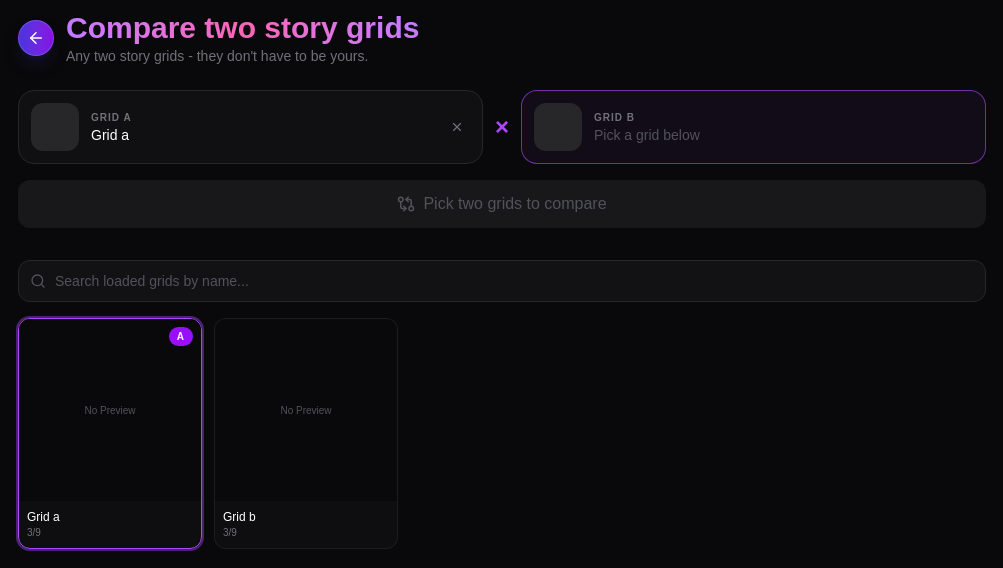
Test: StoryComparePicker › preset A focuses slot B; tapping a picked tile un-picks it
Click the text "Grid b" at (239, 517), box [223,510,256,524]
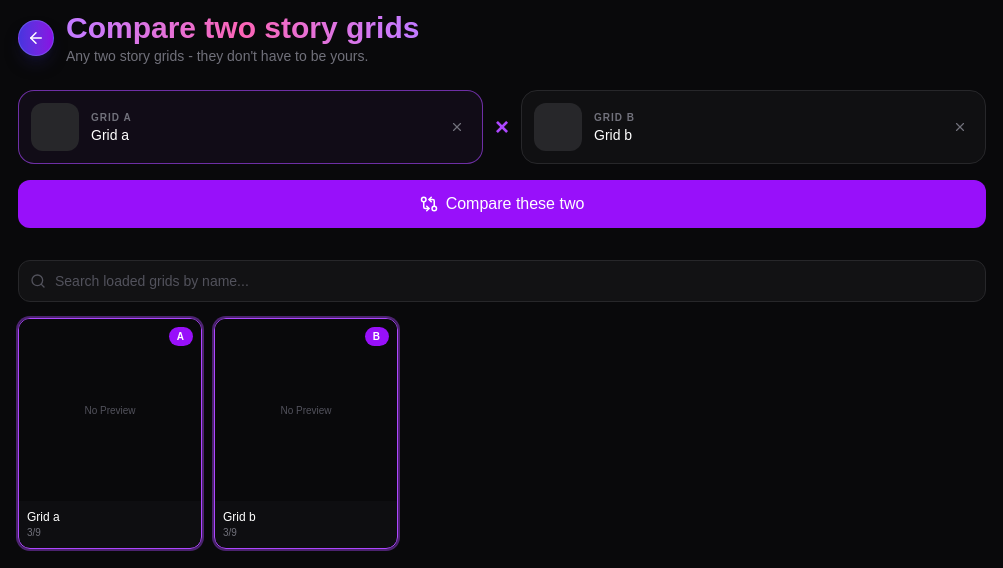
Expected: the button "Compare these two" is shown, [18,180,986,228]
Click the 2nd text "Grid b" at (239, 517), box [223,510,256,524]
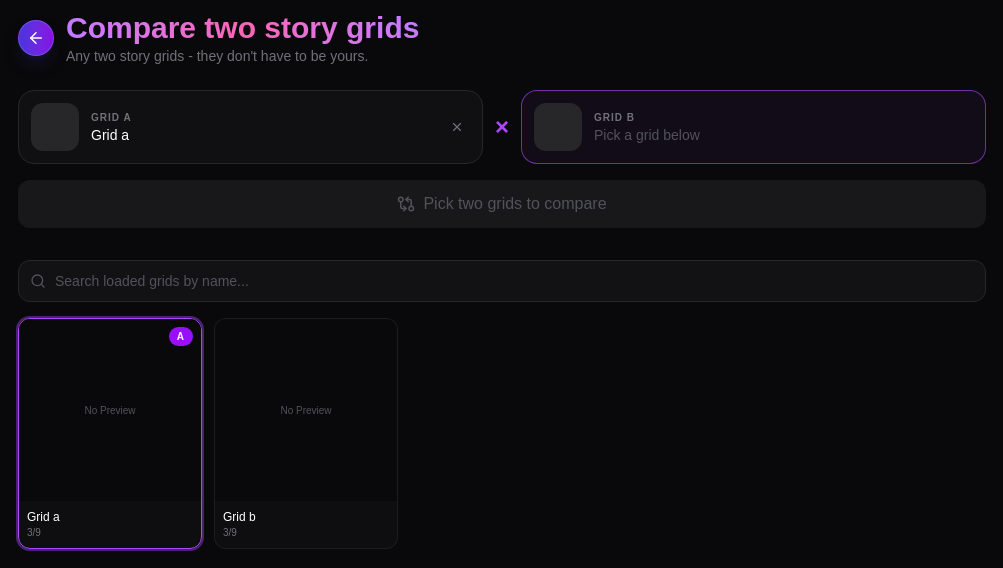
Expected: the button "Pick two grids to compare" is shown, [18,180,986,228]
